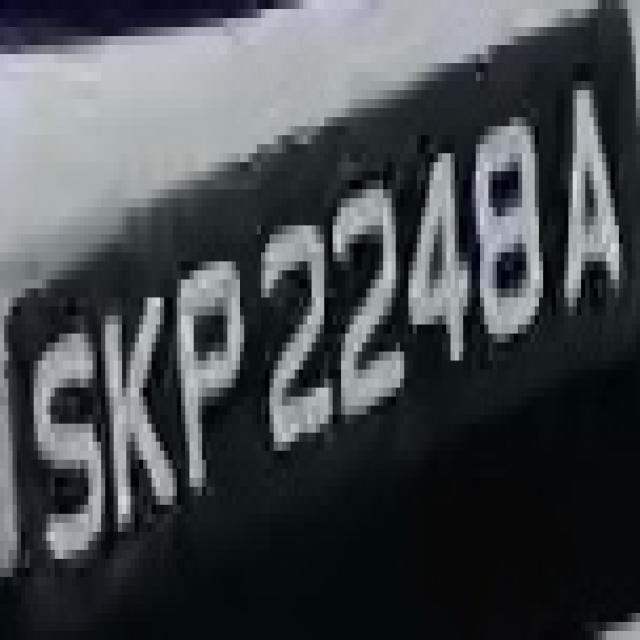2: (324, 180, 417, 460), (253, 216, 341, 469)
4: (392, 144, 476, 379)
8: (463, 81, 552, 370)
A: (548, 54, 624, 361)
K: (96, 270, 172, 577)
P: (160, 243, 248, 514)
S: (21, 306, 110, 586)
